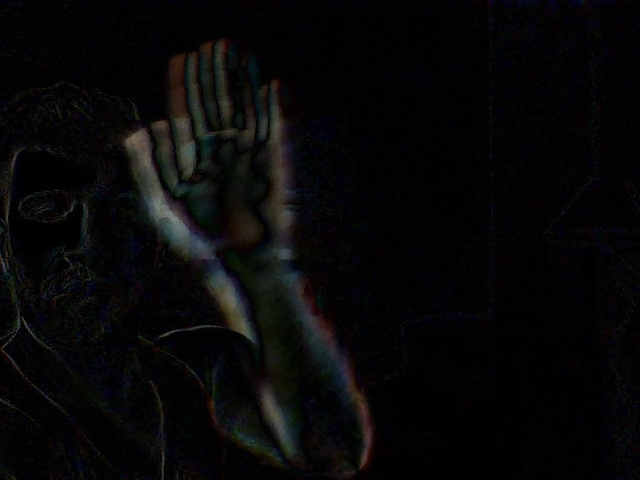arm_fo: (126, 22, 367, 468)
